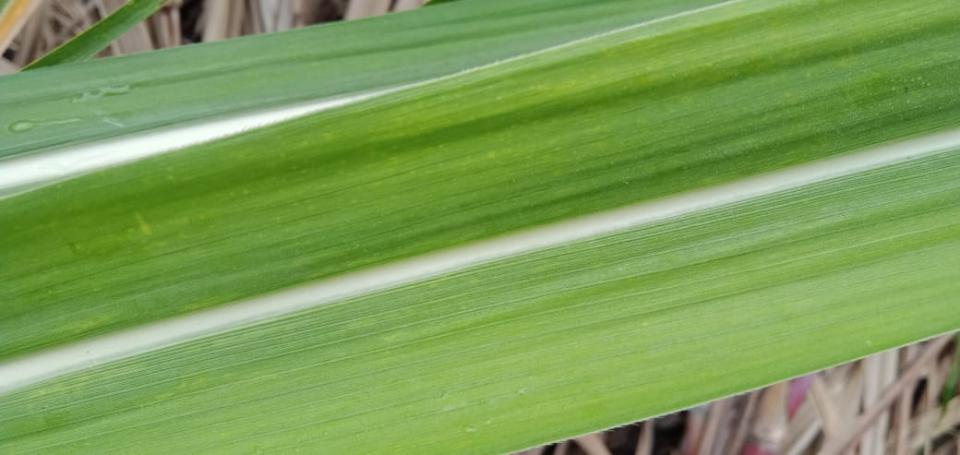Healthy: (0, 0, 959, 454), (0, 0, 739, 201), (19, 0, 169, 71)
